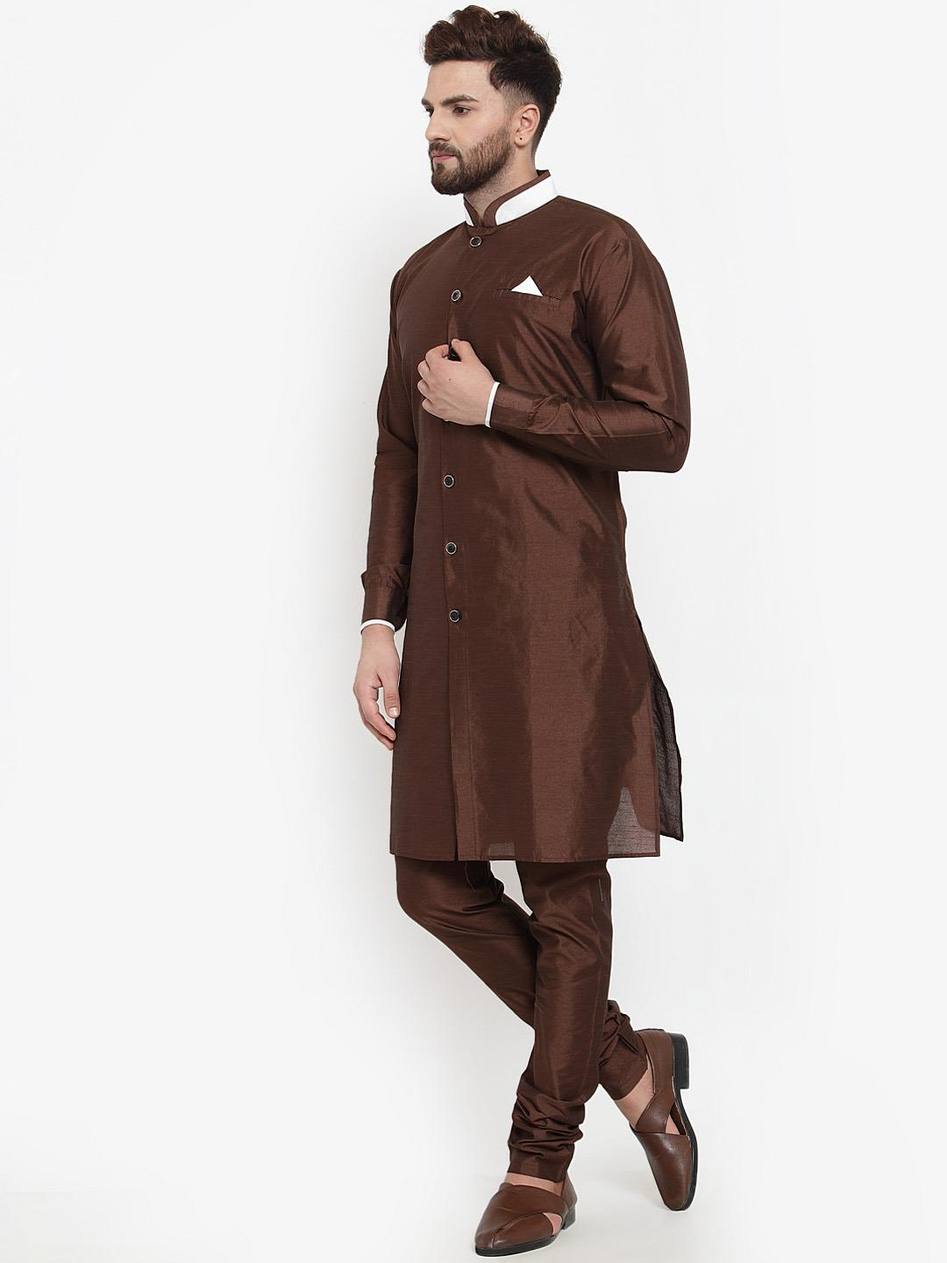Plain Sherwani: (358, 171, 694, 866)
